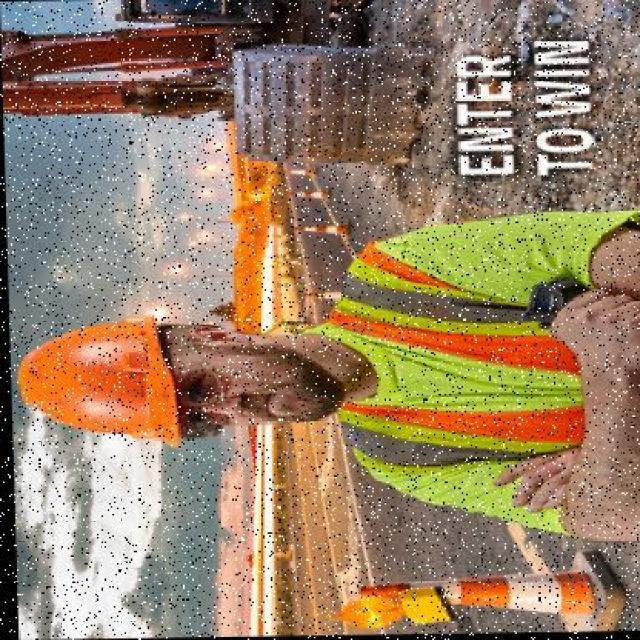helmet: (12, 308, 188, 452)
vest: (323, 223, 639, 501)
